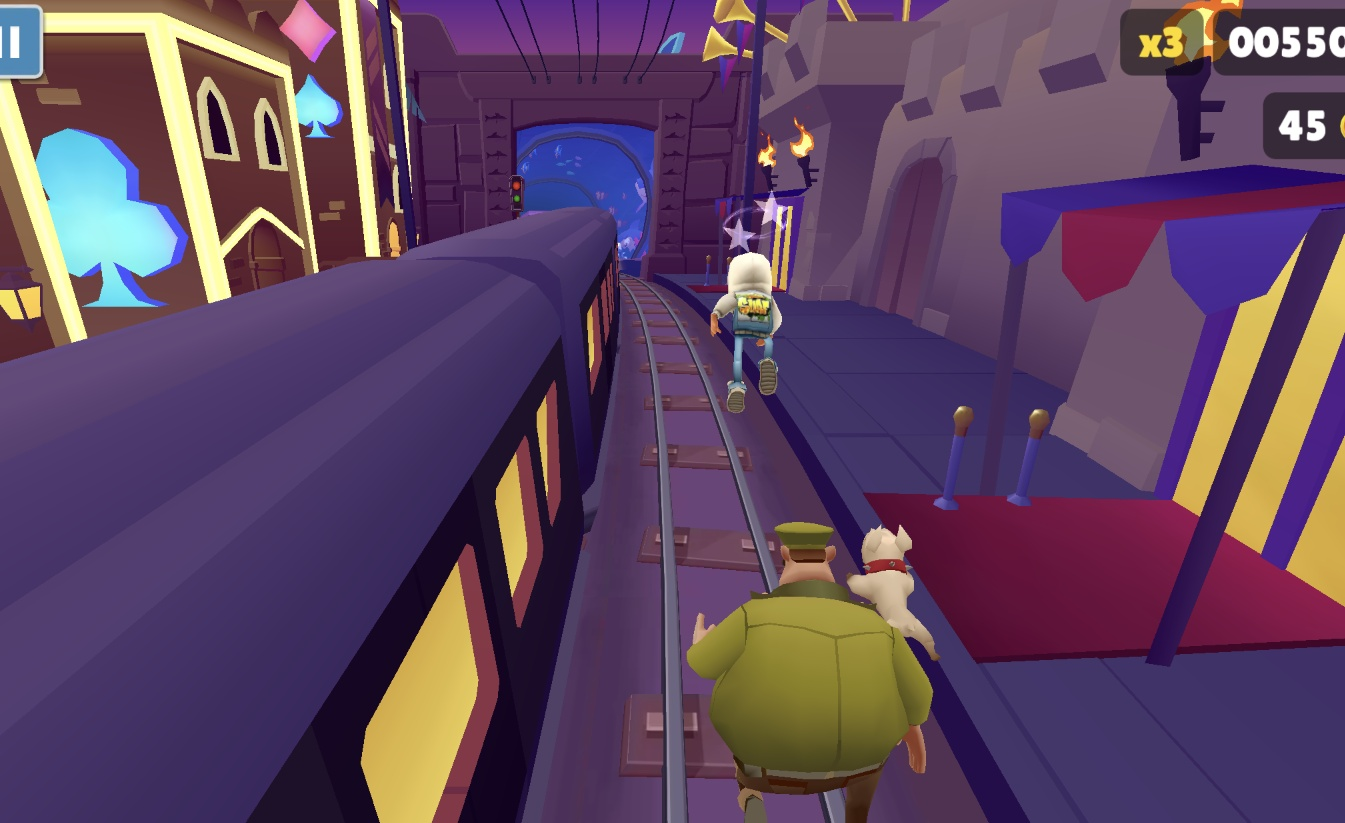train: (0, 213, 626, 823)
